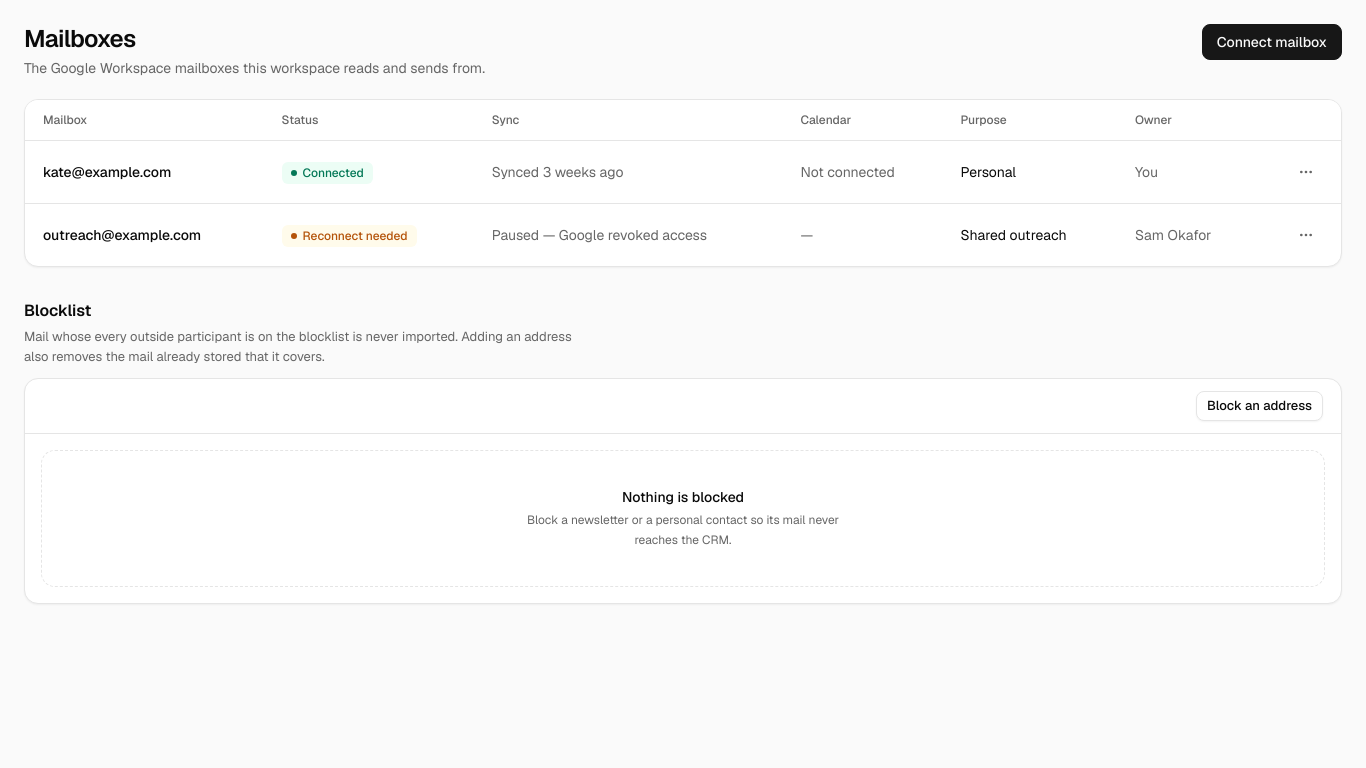
FR-CRMS-2: the blocklist removes mail it covers › refuses something that is neither an address nor a domain before sending it
The image size is (1366, 768).
Click the button "Block an address".
click(1259, 406)  # box [1196, 391, 1323, 421]
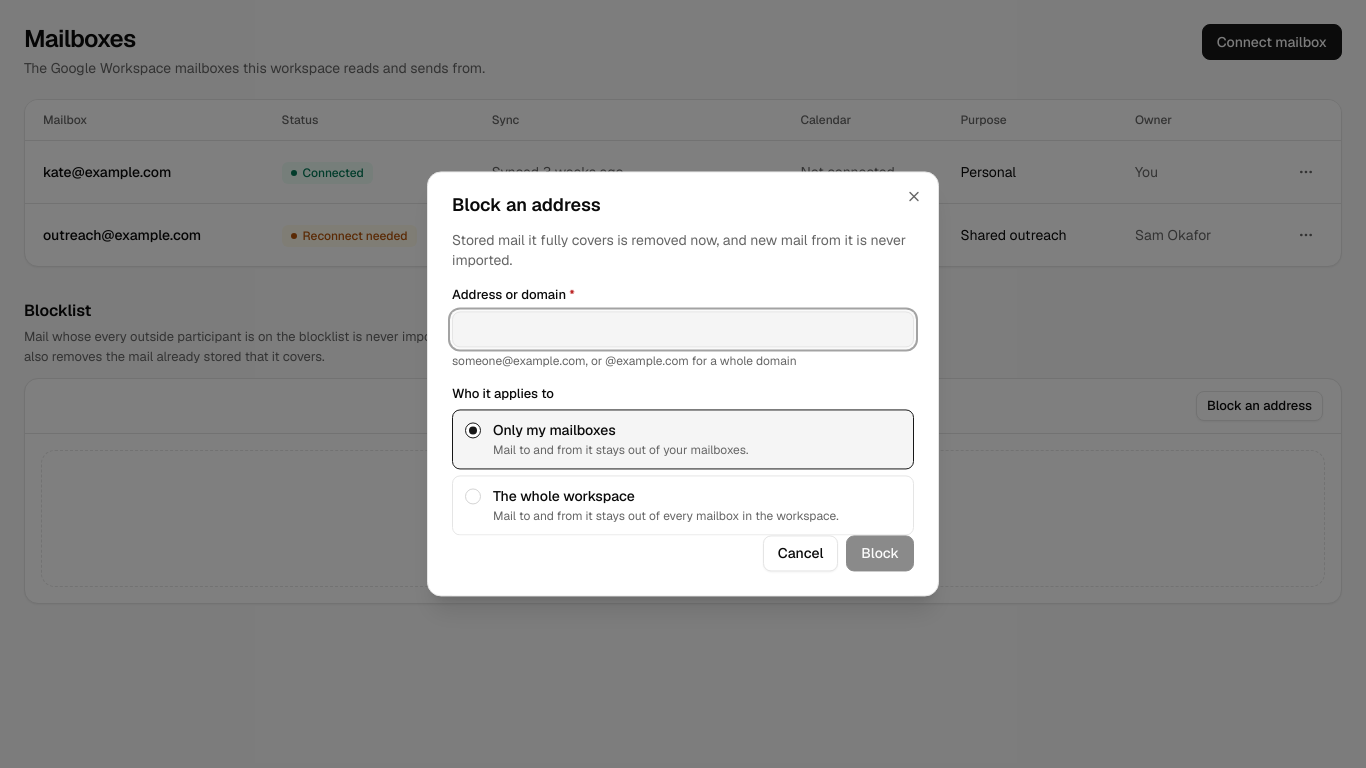
Type "not an address" into the field labelled "Address or domain *".
click(683, 329); type("not an address")  # box [452, 311, 914, 347]
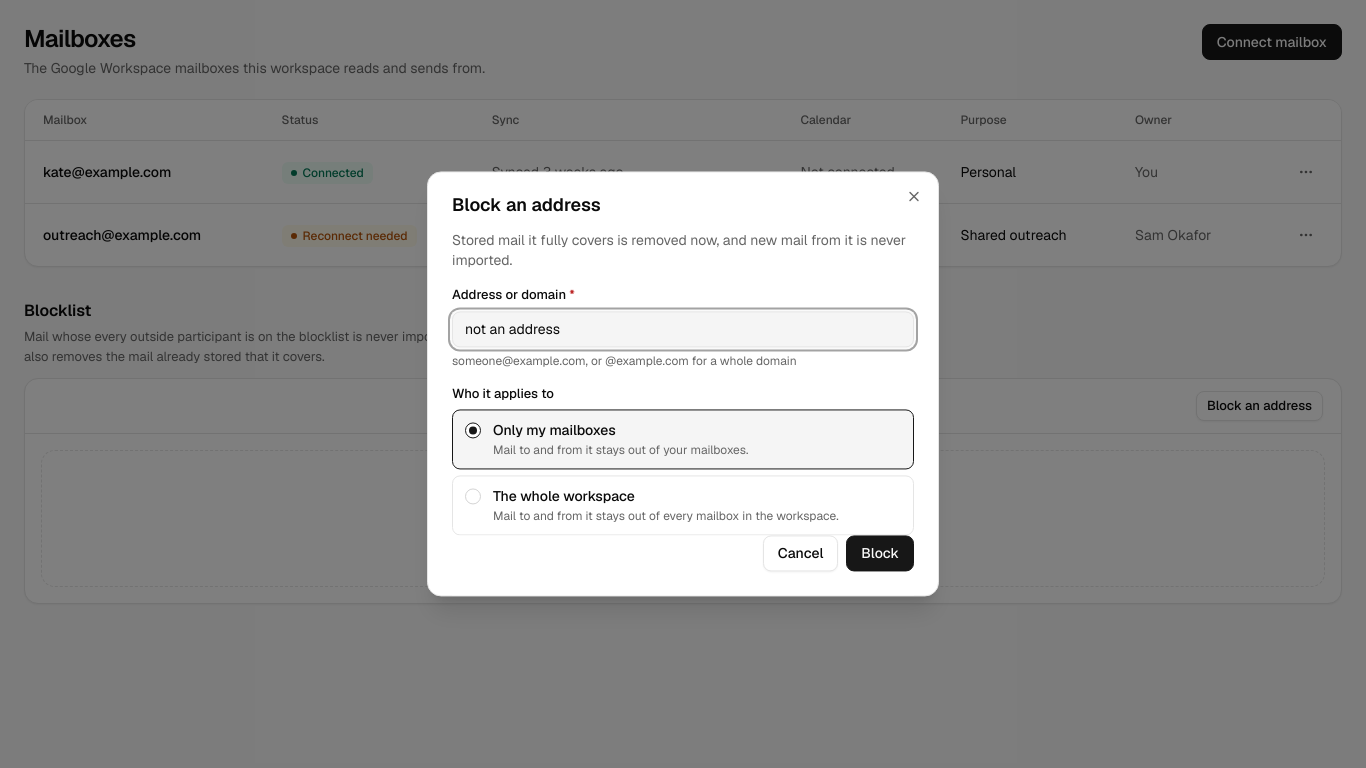
Click the button "Block".
click(880, 554)  # box [846, 536, 914, 572]
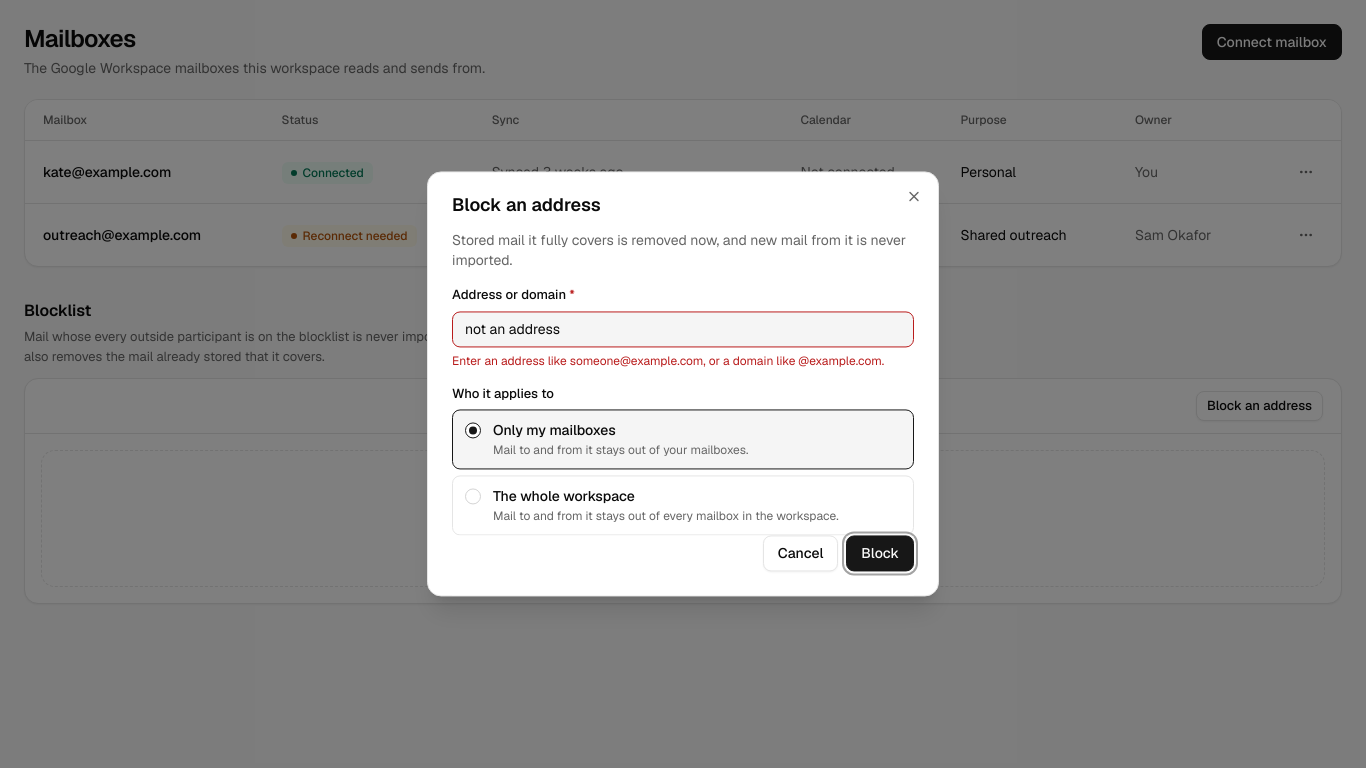
Now the text "Enter an address like someone@example.com, or a domain like @example.com." is shown, box [452, 353, 914, 369]
